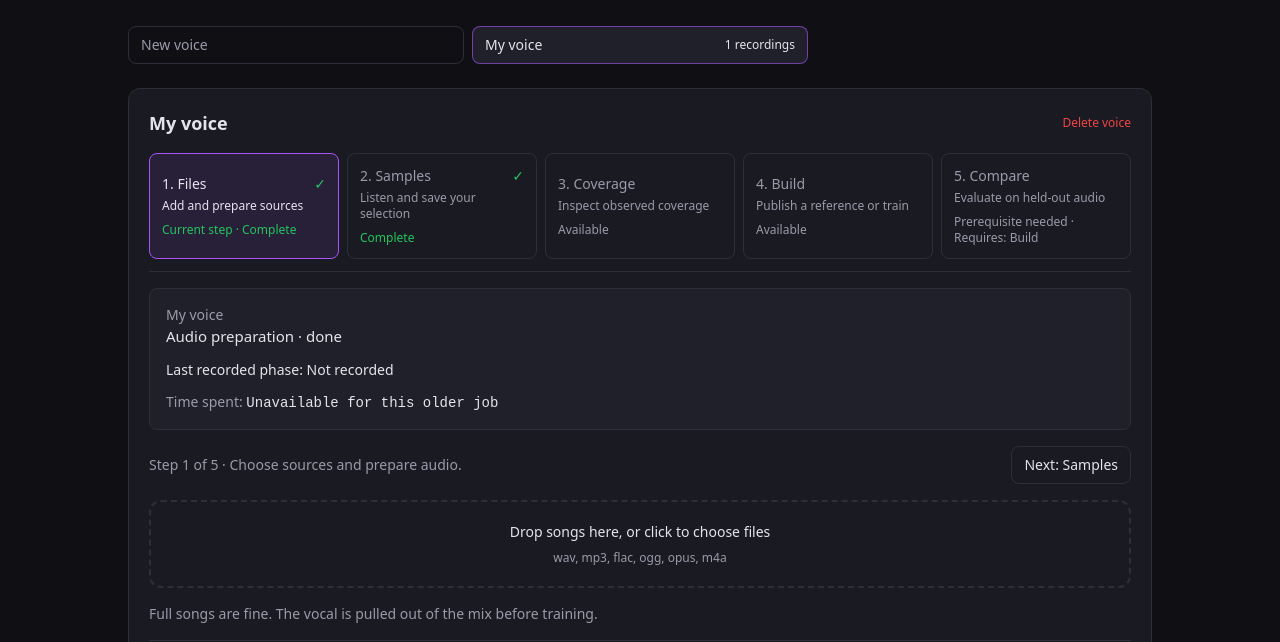
Test: labels trial checkpoints and references with human-readable choices and short build identities
Click the tab with aria-label "Compare" at (1036,206), box x1=941 y1=153 x2=1131 y2=259
(page scrolled)
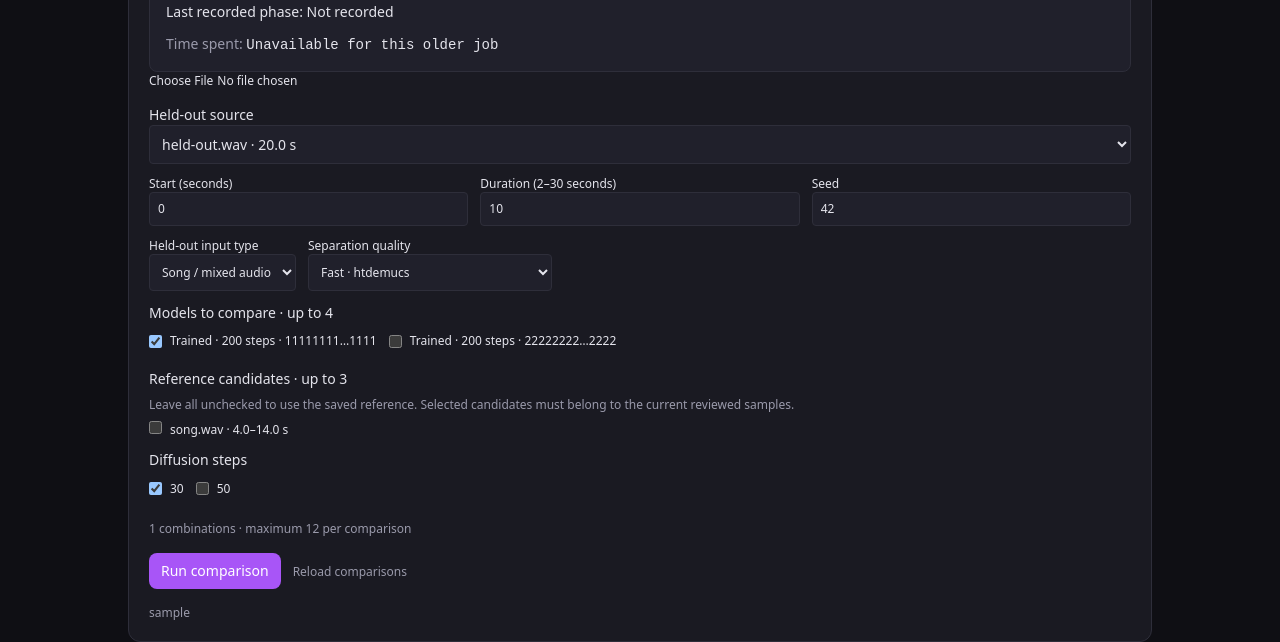
Click the button "Run comparison" at (215,570), box x1=149 y1=552 x2=281 y2=588
(page scrolled)
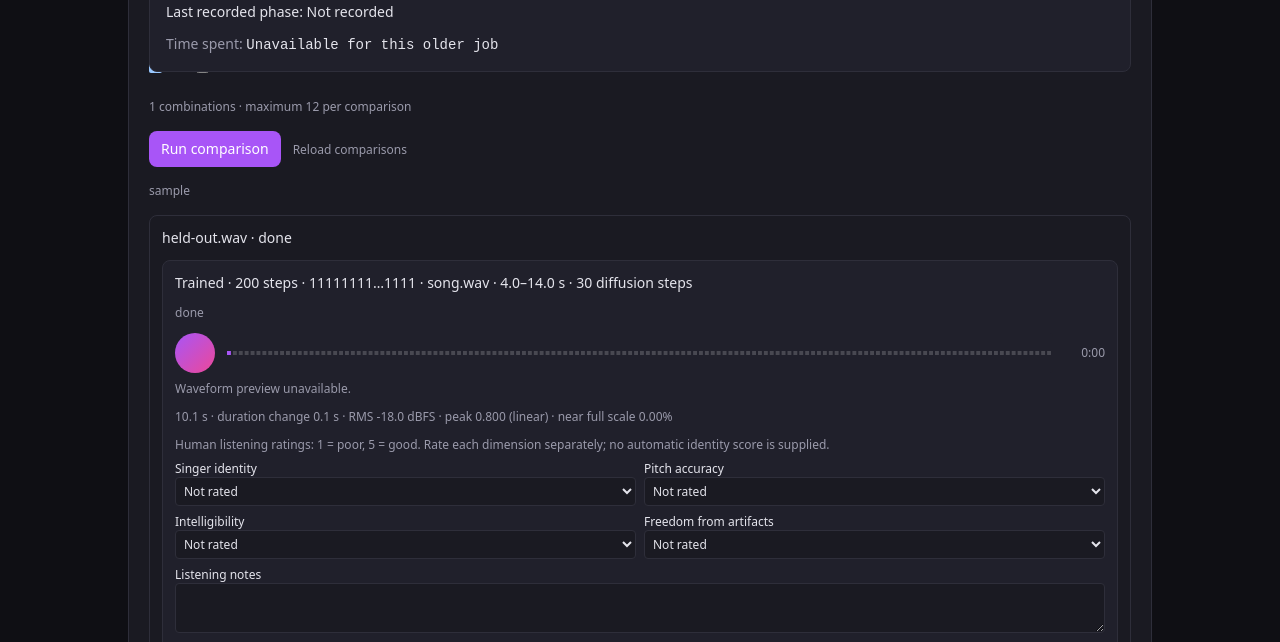
Check: the heading with id "trial-comparison-1-trial-1" shows "Trained · 200 steps", box x1=175 y1=272 x2=416 y2=292
Check: the heading with id "trial-comparison-1-trial-1" shows "11111111…1111", box x1=175 y1=272 x2=416 y2=292
Check: the heading with id "trial-comparison-1-trial-1" shows "song.wav · 4.0–14.0 s", box x1=427 y1=272 x2=565 y2=292
